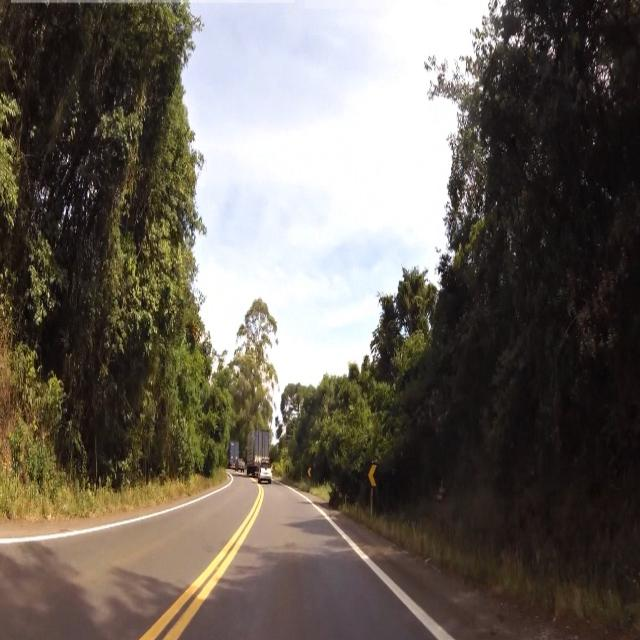Del: (368, 462, 381, 490)
